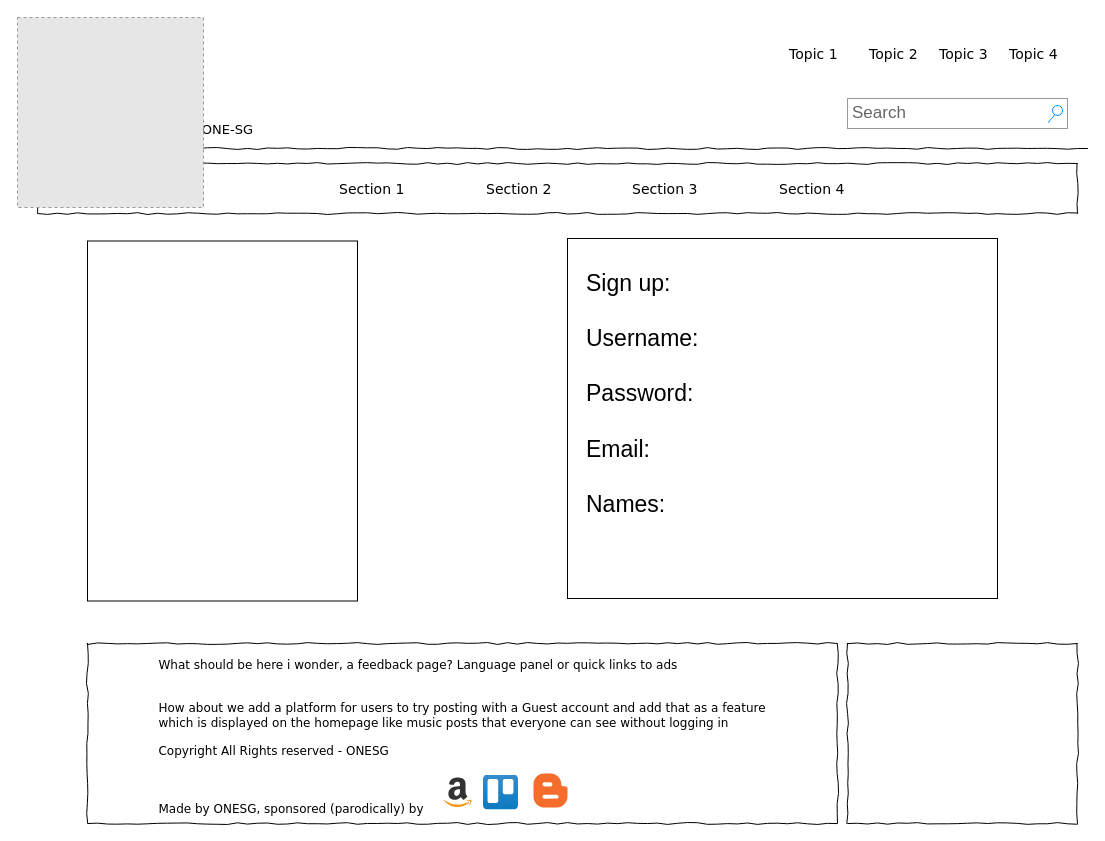
Some shapes in this 1105 by 841 pixel diagram are drawn without their labels. Grey dashed boxes stand in for pictures. The box of each missing label's shape, as (x1, y1, x2, y2) in pixels:
Captcha:: (846, 642, 1078, 824)
Sign in: Username: Password:: (86, 240, 358, 601)
